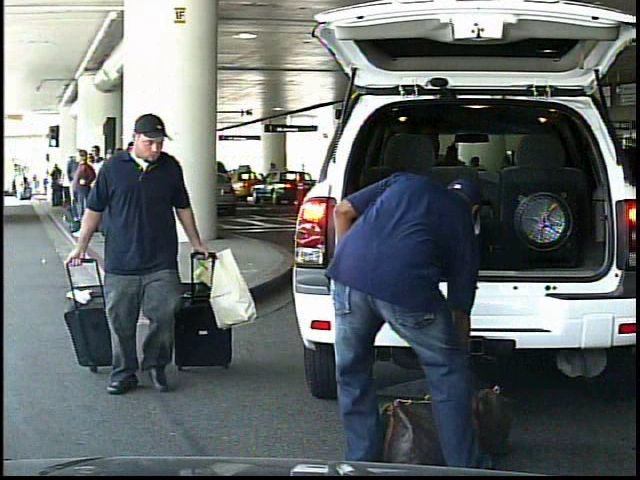person: (318, 132, 505, 476), (74, 113, 225, 412), (267, 162, 279, 195), (14, 170, 25, 200)
